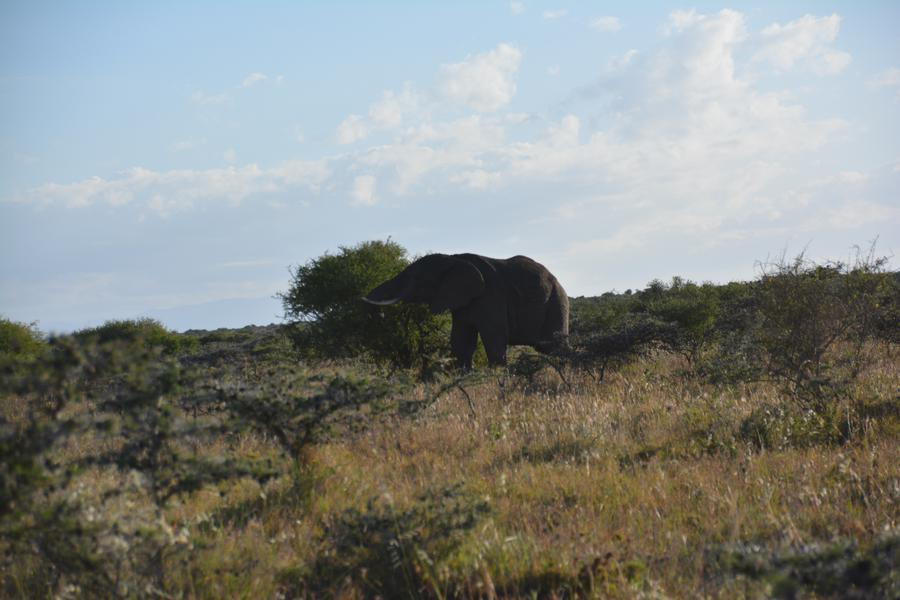elephant: (361, 246, 582, 359)
